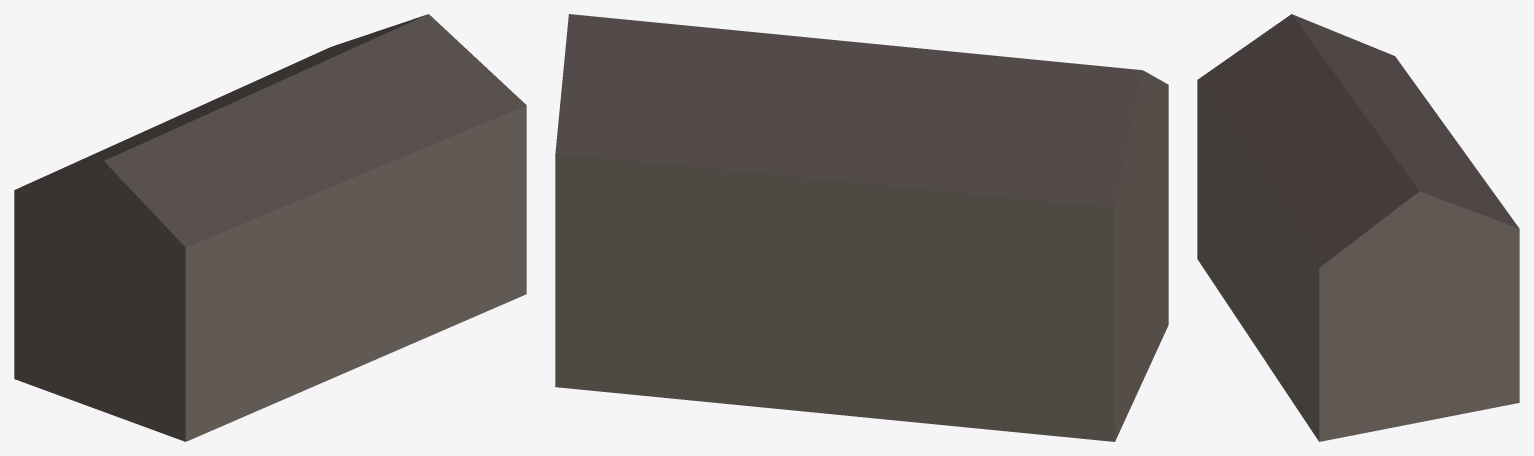
3 renders of one model, left to right at view 1: azimuth 30°, elevation 25°; view 2: azimuth 150°, elevation 25°; view 3: azimuth 270°, elevation 25°, orthographic. The views are drawn at different scales.
Parts seen in each view (by area): view 1: HP-w505661368; view 2: HP-w505661368; view 3: HP-w505661368.
Boxes of the visible parts, <box> form: HP-w505661368: <box>14,14,526,441</box>; HP-w505661368: <box>555,14,1168,441</box>; HP-w505661368: <box>1197,14,1519,441</box>.
Bounding box in the file's own units: 23.52 × 11.96 × 15.12.
